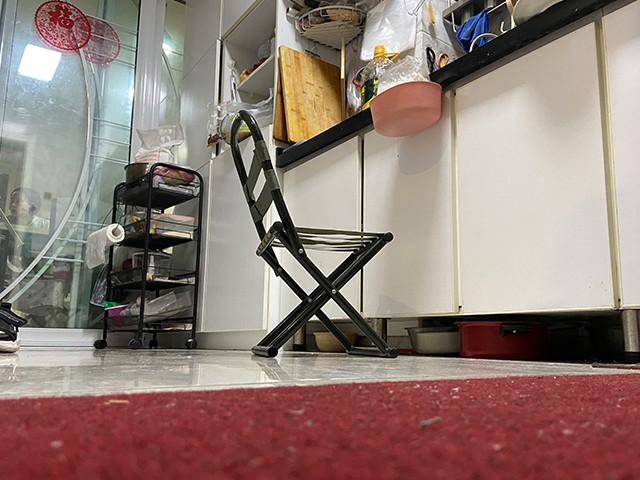cabinet: (273, 1, 639, 355), (189, 124, 277, 352)
carpet: (1, 372, 640, 479)
stool: (229, 108, 399, 360)
